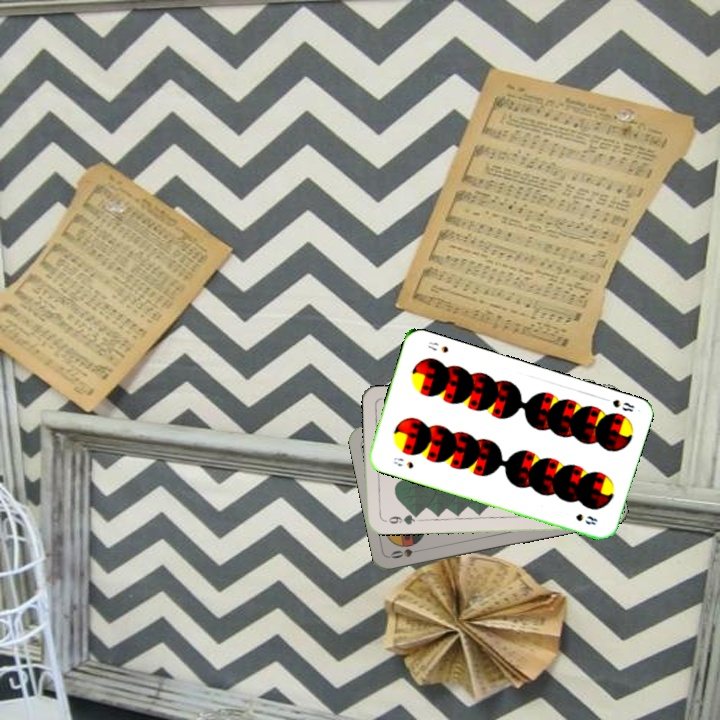G9: (379, 510, 419, 527)
S8: (599, 393, 637, 414), (389, 453, 416, 471)
SO: (386, 544, 427, 561)
